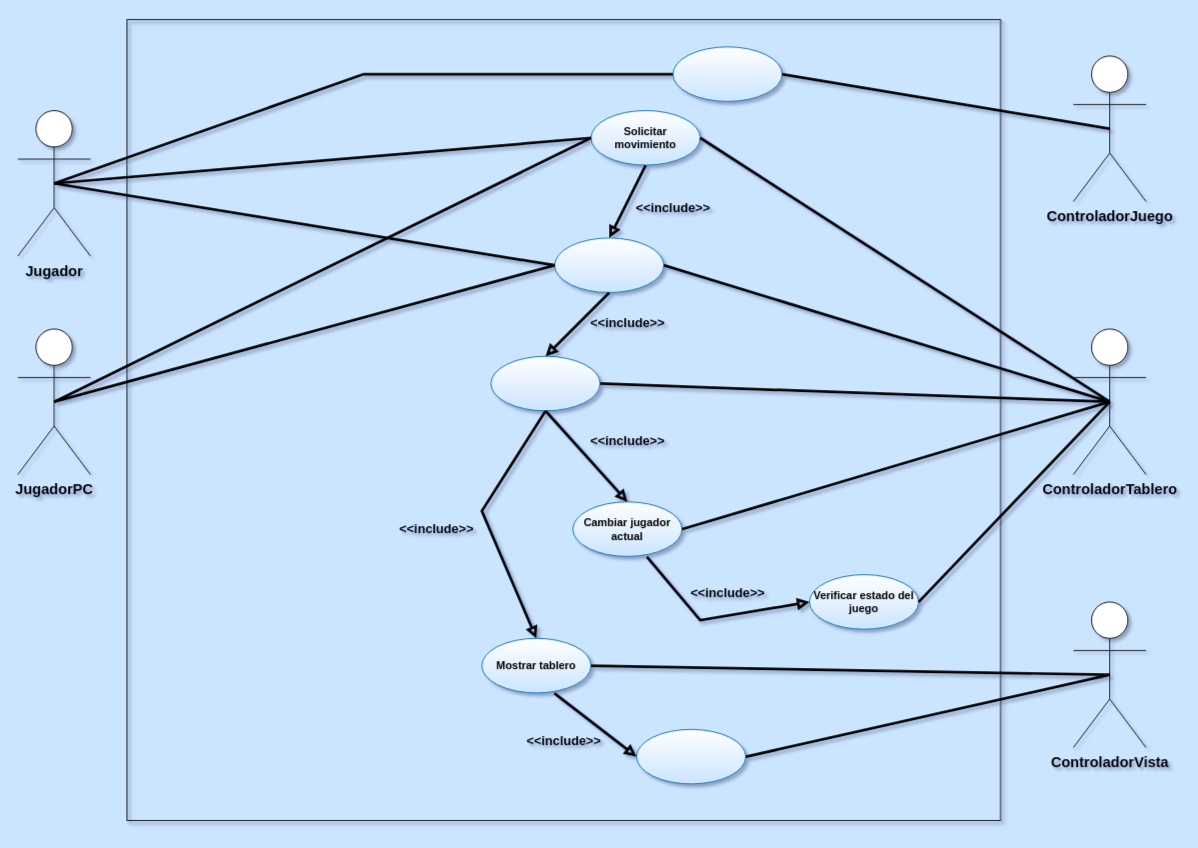
Some shapes in this 1198 by 848 pixel diagram are drawn without their labels. The centre of each missing label's shape, as x and y in pixels:
"Actualizar tablero" belongs at point (545, 383).
"Inicio del Juego" belongs at point (727, 73).
"Notificar observadores" belongs at point (691, 756).
"Realizar movimiento" belongs at point (609, 265).
